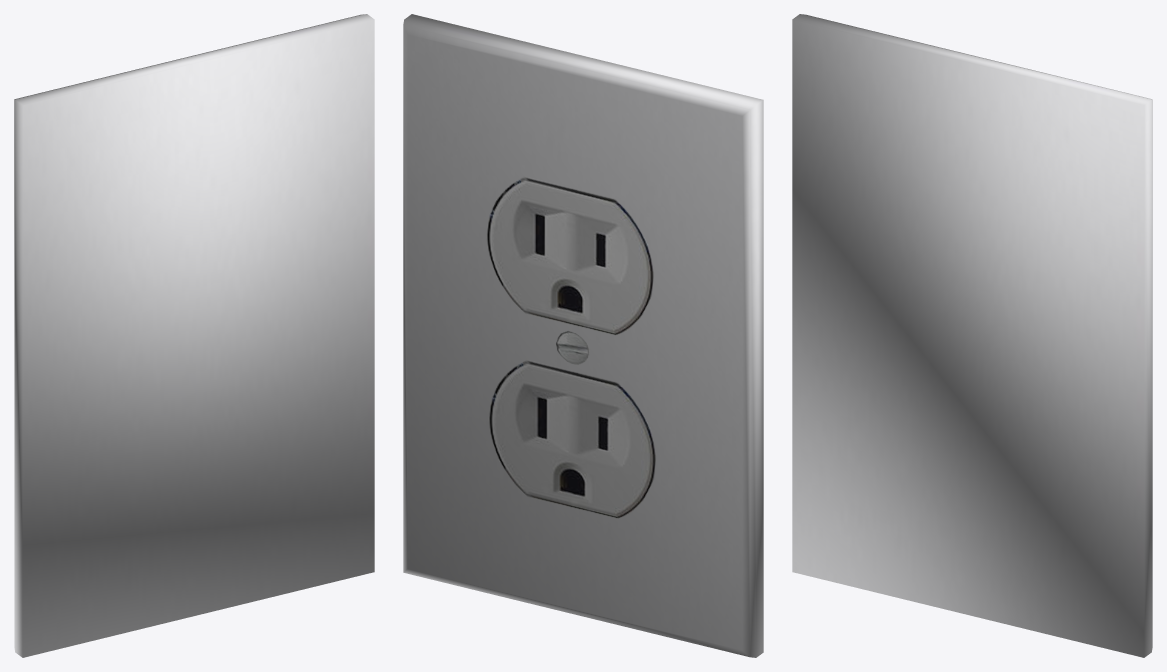
File: wall_outlet_american.glb
3 views of the same model, side by side, from view 1: azimuth 30°, elevation 25°; view 2: azimuth 150°, elevation 25°; view 3: azimuth 330°, elevation 25° (orthographic).
Parts seen in each view (by area): view 1: outlet; view 2: outlet; view 3: outlet.
Boxes of the visible parts, <box> form: outlet: <box>14,14,374,657</box>; outlet: <box>403,14,763,657</box>; outlet: <box>792,14,1152,657</box>.
Size of the model in its own units: 0.08 by 0.12 by 0.005.
1 material, 1 textured.
